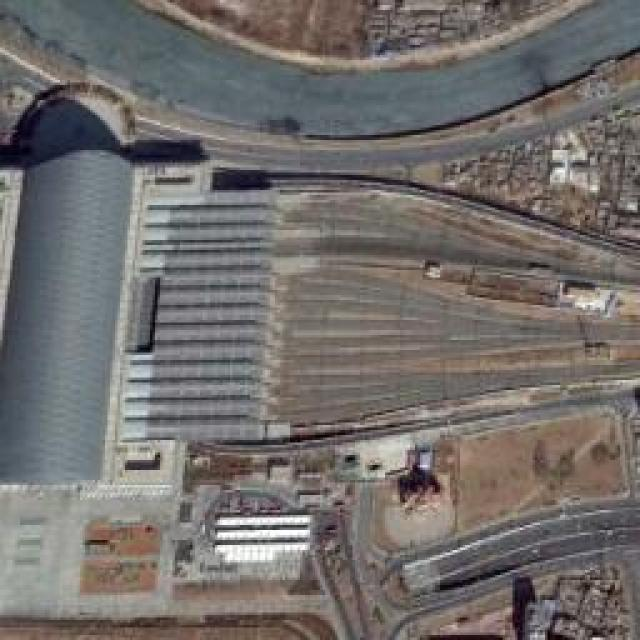Railway: (0, 114, 640, 508)
